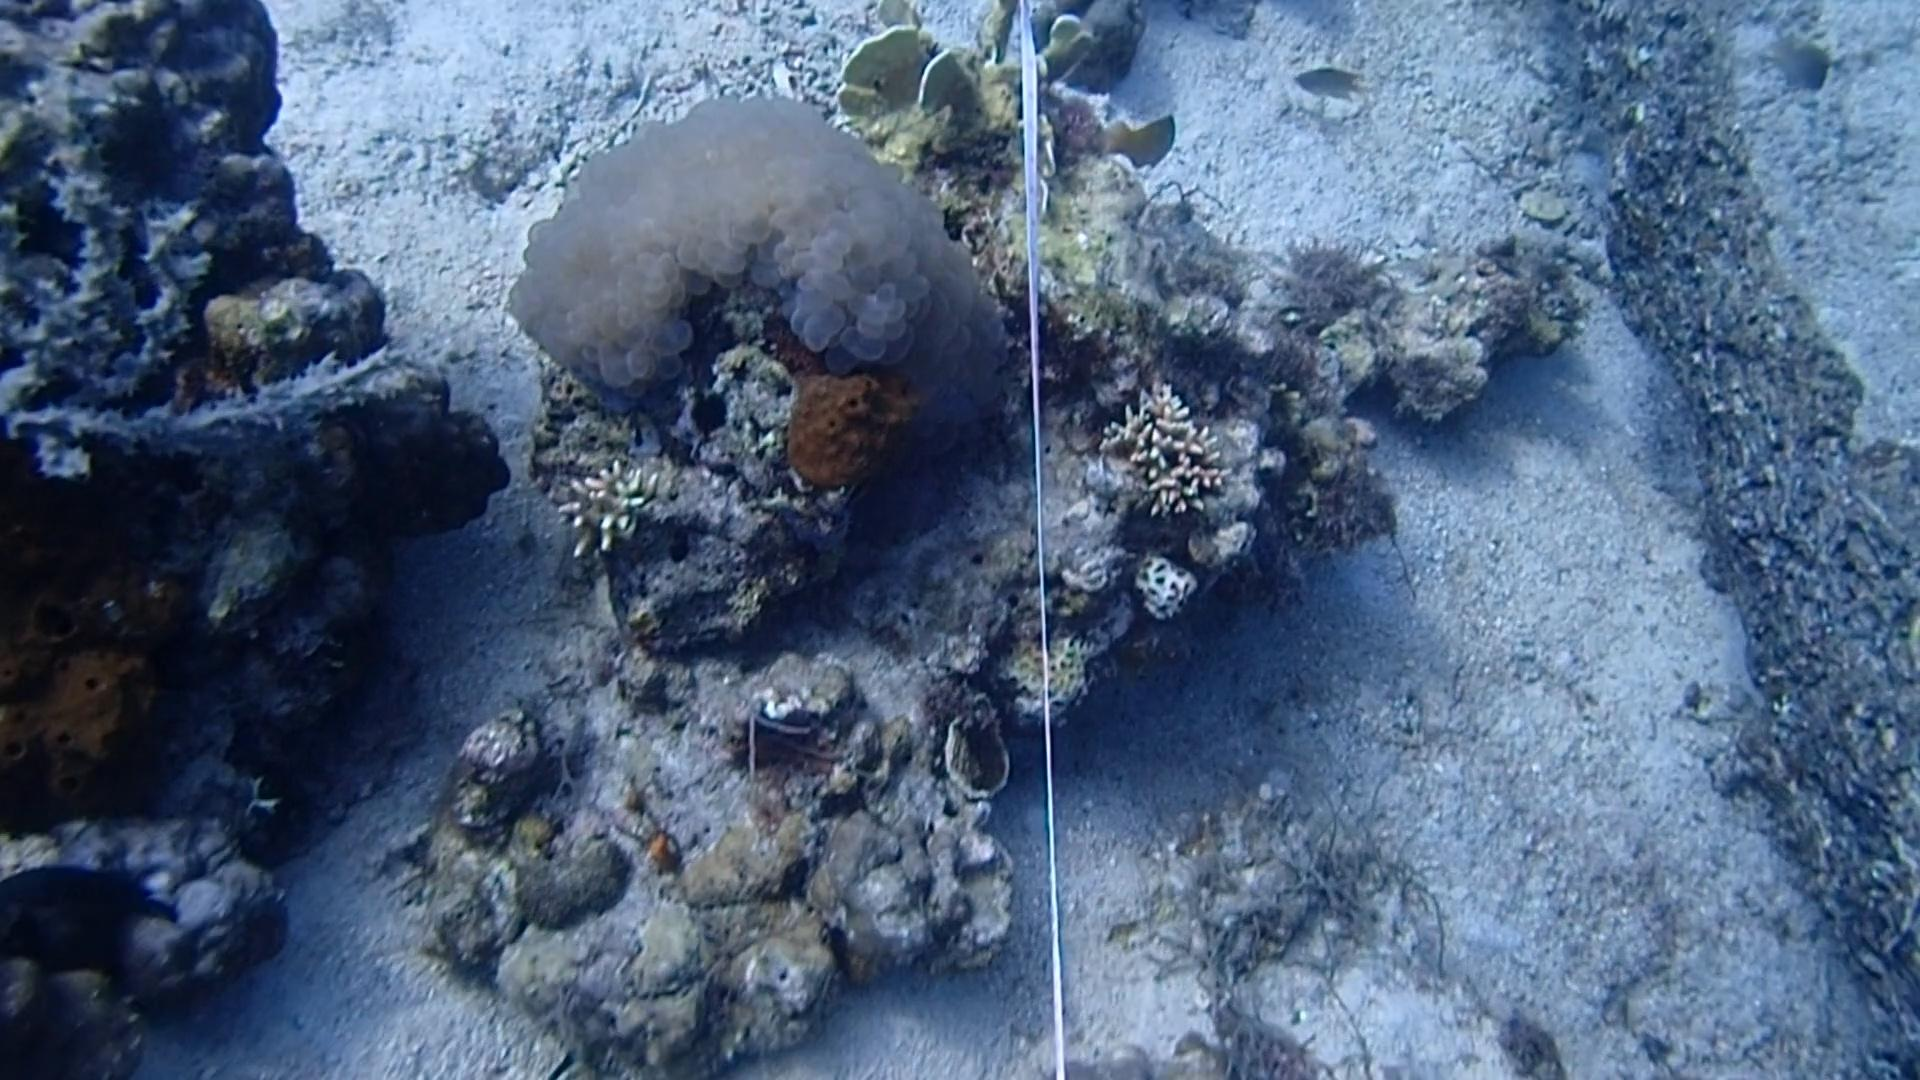Big Dark Blue Fish: (13, 849, 189, 953)
Light Fish: (1764, 29, 1844, 100), (1284, 55, 1374, 116)
Yellow-Blue Fish: (1104, 100, 1185, 174)
